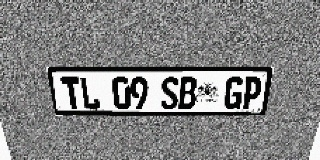0: (111, 77, 131, 109)
9: (130, 77, 149, 109)
B: (178, 77, 197, 109)
G: (223, 77, 245, 109)
L: (79, 77, 100, 109)
P: (241, 77, 263, 109)
S: (161, 77, 179, 109)
T: (60, 77, 83, 109)
